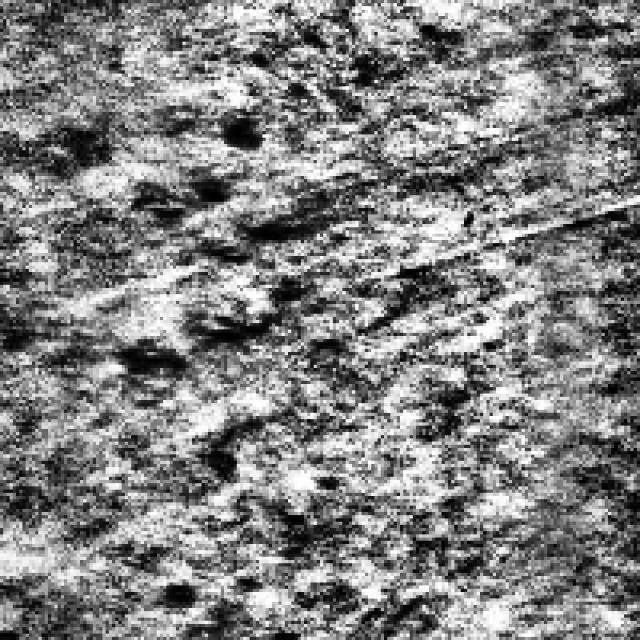Crazing: (102, 96, 288, 381)
